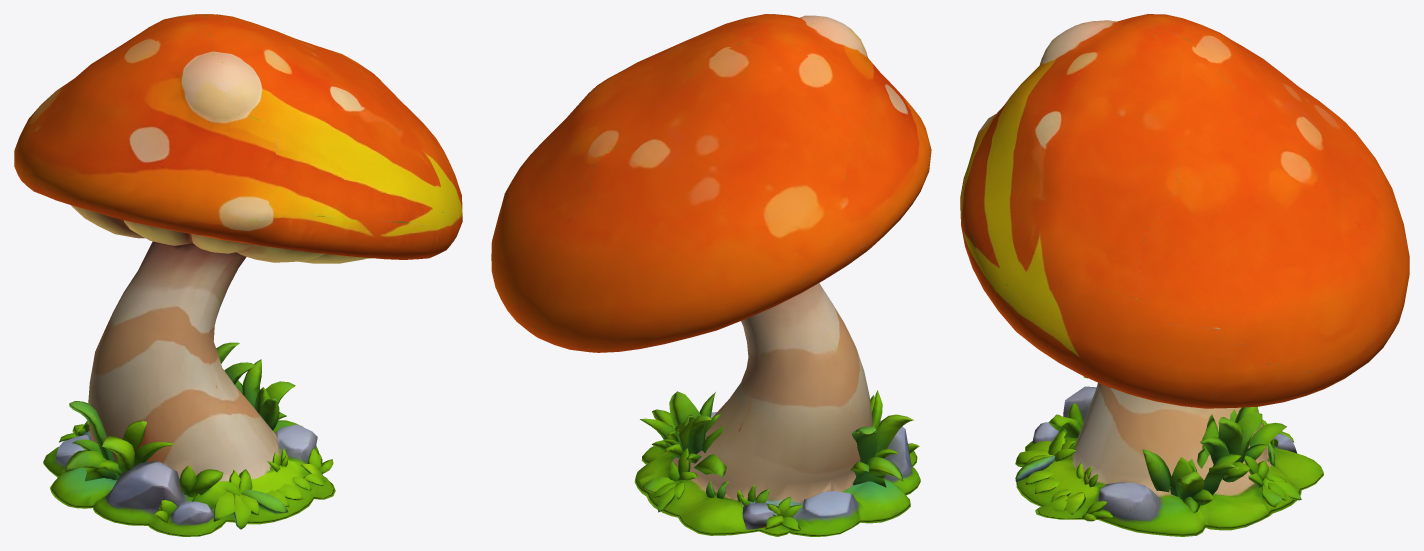
The model's file is mushroom_tilted.glb.
The picture shows the model from 3 angles, left to right: view 1: azimuth 30°, elevation 25°; view 2: azimuth 150°, elevation 25°; view 3: azimuth 270°, elevation 25°; orthographic projection. The views are drawn at different scales.
Size of what is drawn, in the model's own units: 0.9067 by 1 by 0.8907.
Materials: 1 (1 with a texture image).
